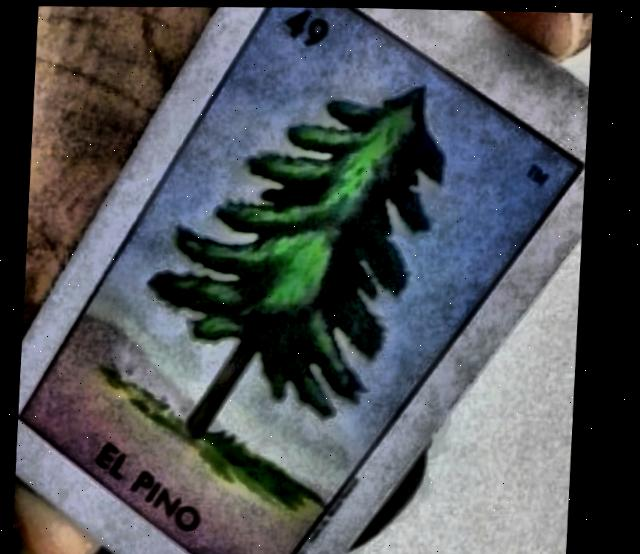El Pino: (25, 6, 578, 554)
